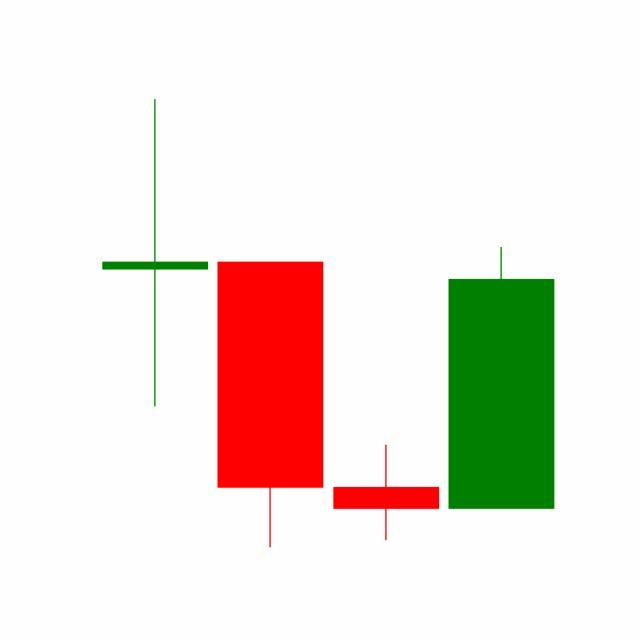Spinning Top: (329, 444, 445, 542)
